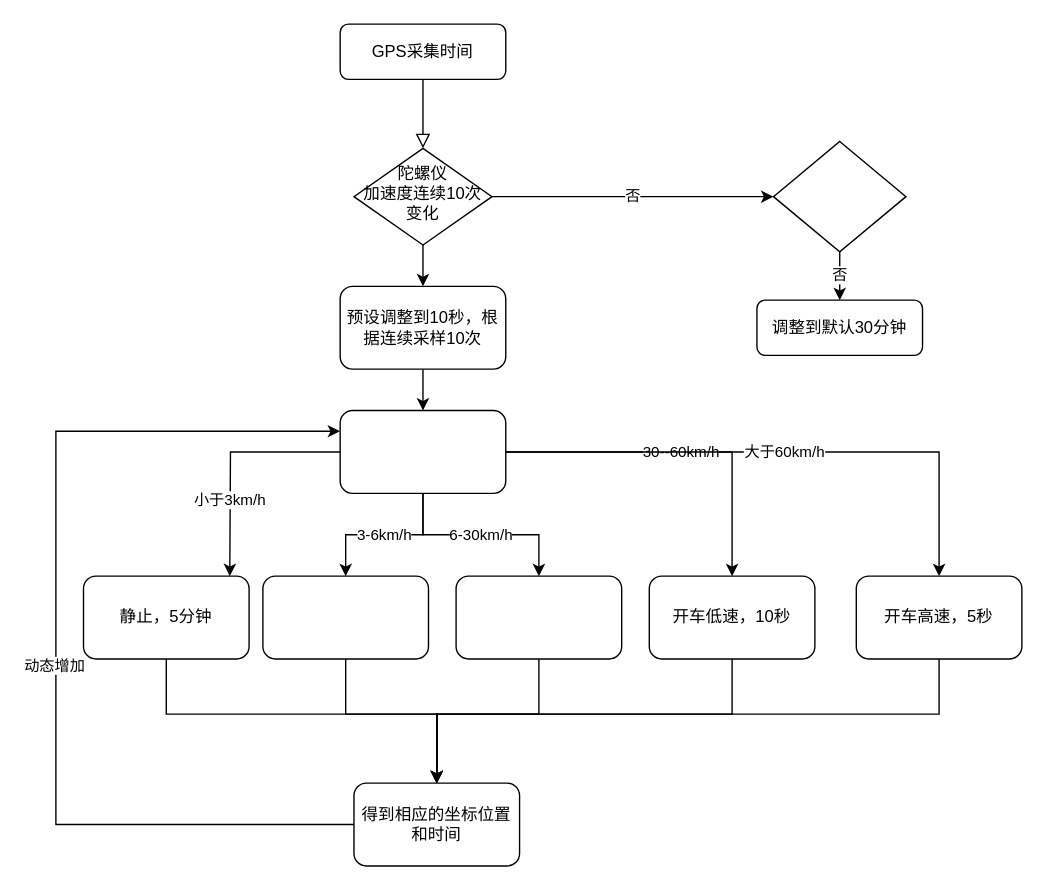
Some shapes in this 1046 by 890 pixel diagram are drawn without their labels. The box of each missing label's shape, as (x1, y1, x2, y2) in pixels:
当前间隔 是否30分钟: (772, 140, 906, 252)
根据速度动态调整: (339, 409, 506, 493)
步行，1分钟: (262, 575, 428, 659)
骑行，30秒: (455, 575, 622, 659)
